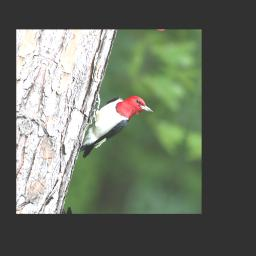Woodpecker: (75, 81, 158, 176)
